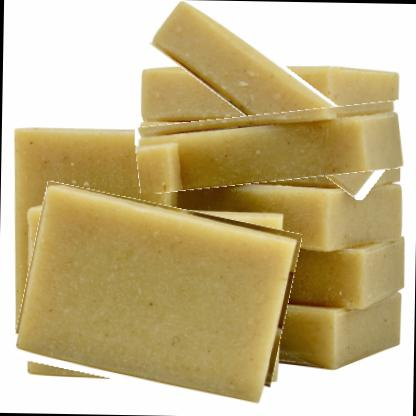soap: (17, 192, 294, 398), (137, 23, 403, 164), (134, 103, 406, 190)
